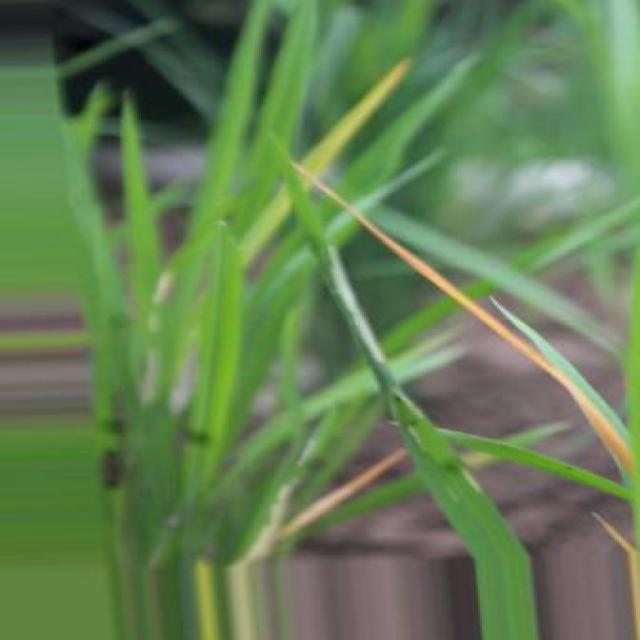Rice Tungro: (297, 165, 632, 473)
